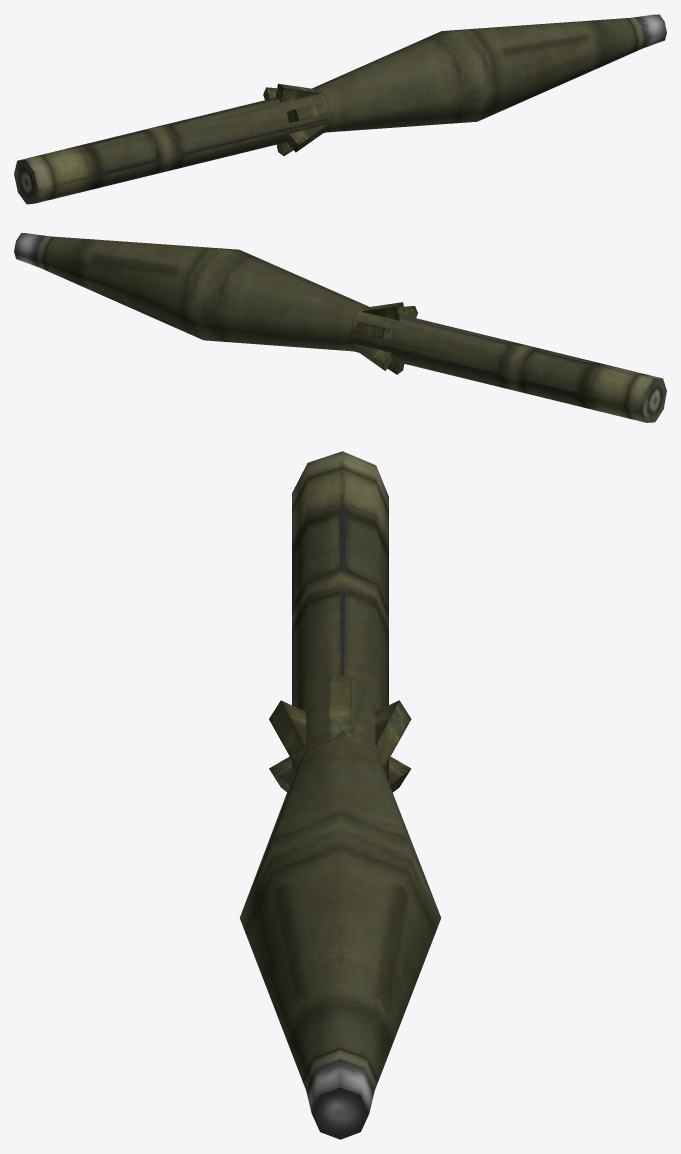
File: t6_wpn_projectile_rpg7_LOD0.obj
The picture shows the model from 3 angles, top to bottom: view 1: azimuth 30°, elevation 25°; view 2: azimuth 150°, elevation 25°; view 3: azimuth 270°, elevation 25°; orthographic projection. The views are drawn at different scales.
Visible parts, largest first — view 1: mtl_t6_wpn_launch_rpg7; view 2: mtl_t6_wpn_launch_rpg7; view 3: mtl_t6_wpn_launch_rpg7.
Part boxes in pixels (box(x1,y1,x2,y2)): mtl_t6_wpn_launch_rpg7: box(14, 14, 666, 204); mtl_t6_wpn_launch_rpg7: box(14, 233, 666, 422); mtl_t6_wpn_launch_rpg7: box(240, 451, 440, 1139).
Bounding box in the file's own units: 60.79 × 8.38 × 8.38.
